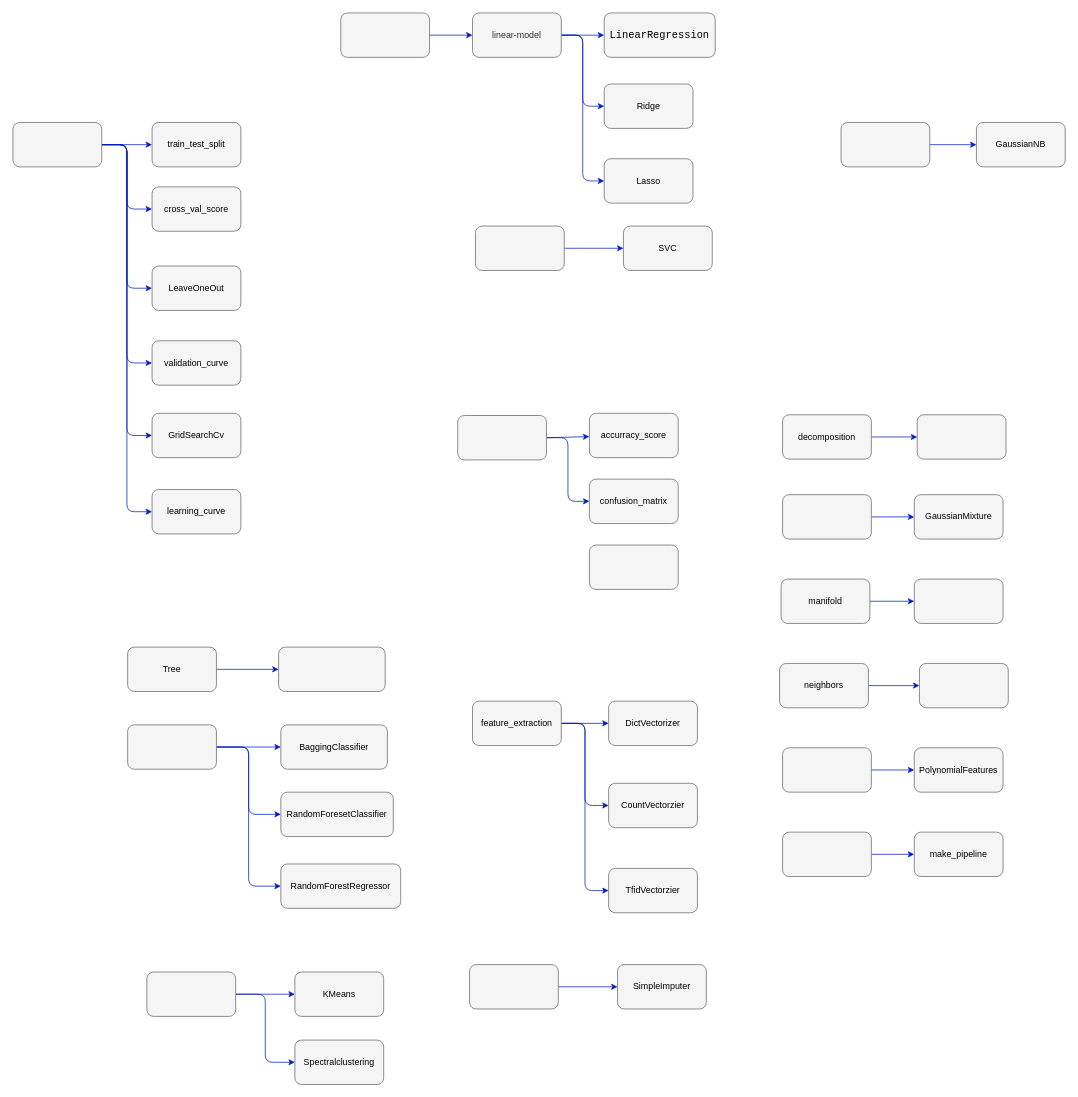
Image size: 1078x1097. Some labels were removed from this diagram. The shapes that lost their labels are listed below. From the top down, each one's centre as x and y in pixels, then its label:
At point 385,34: "sklearn".
At point 57,144: "model_selection".
At point 885,144: "naive_byes".
At point 519,247: "SVM".
At point 501,437: "metrics".
At point 961,436: "PCA".
At point 826,516: "mixutre".
At point 633,566: "Classification_report".
At point 958,600: "Isomap".
At point 331,669: "DecisionTreeClassifier".
At point 963,685: "KNeighborsClassifier".
At point 171,746: "ensemble".
At point 826,769: "processing".
At point 826,854: "pipeline".
At point 191,993: "cluster".
At point 513,986: "imput".
